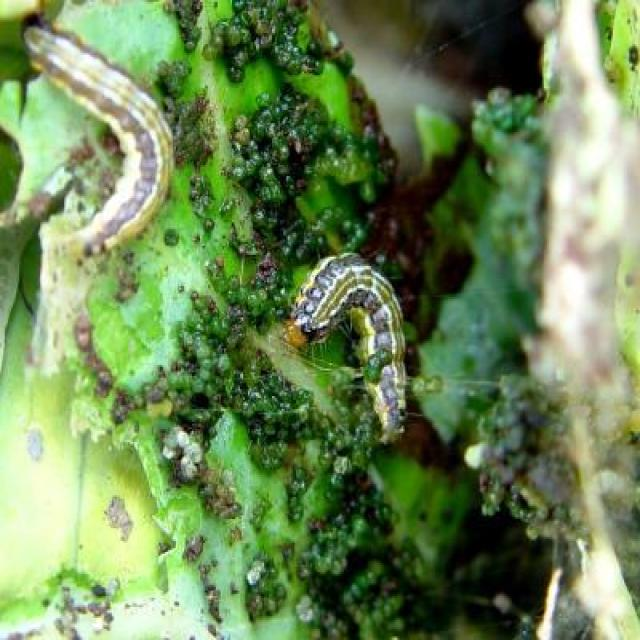armyworm: (22, 6, 182, 263), (292, 246, 407, 439)
